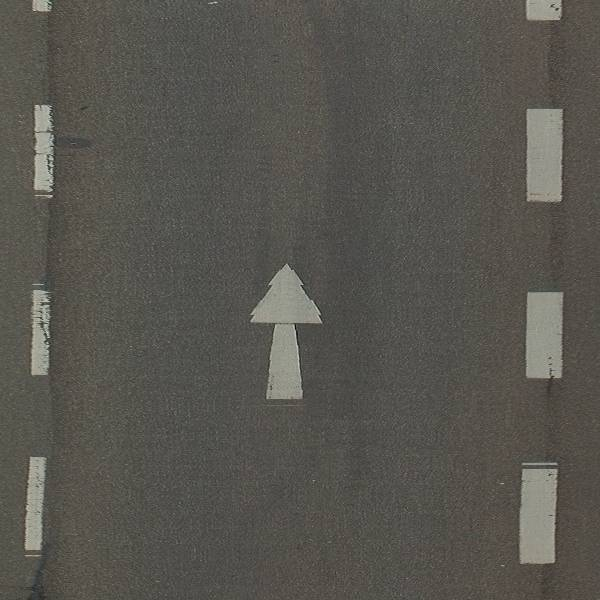road_damage: (53, 133, 95, 153), (546, 353, 559, 400)
